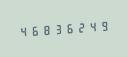eight: (41, 21, 52, 37)
four: (17, 23, 28, 39), (89, 18, 100, 34)
nine: (101, 17, 112, 33)
six: (65, 19, 76, 36), (29, 22, 40, 38)
three: (53, 20, 64, 36)
two: (77, 19, 88, 35)
